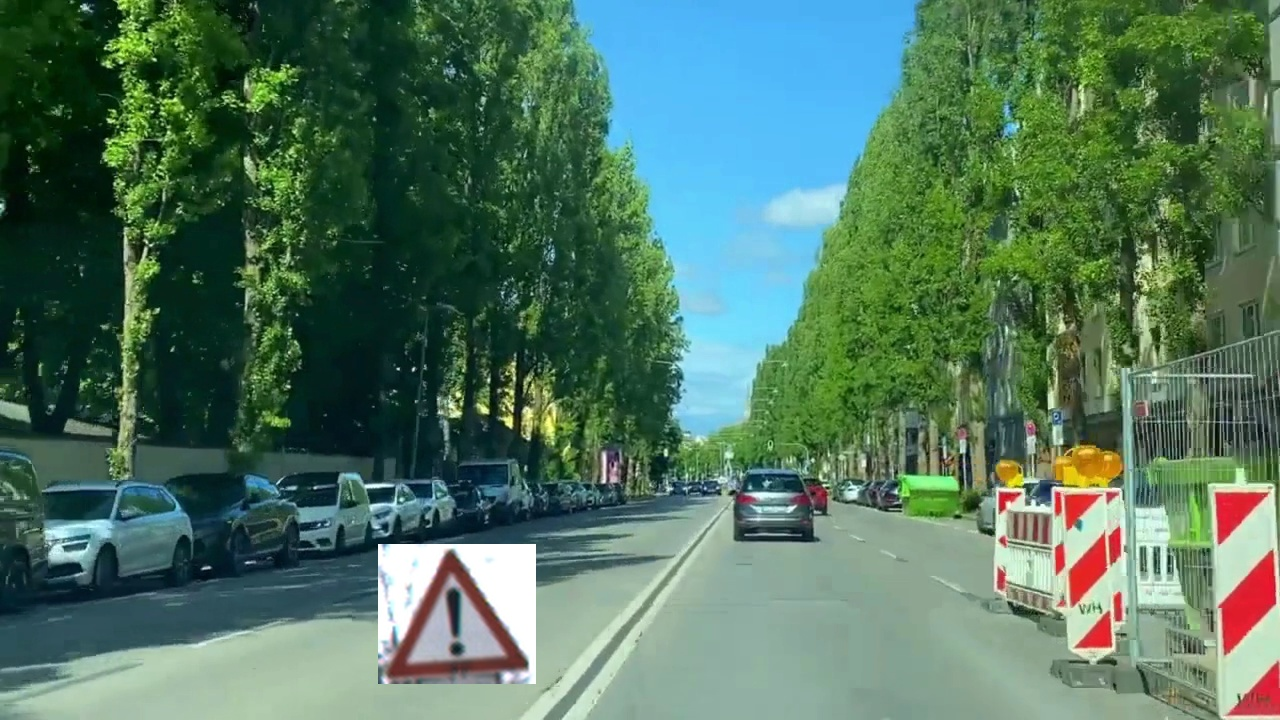Caution: (378, 544, 536, 684)
